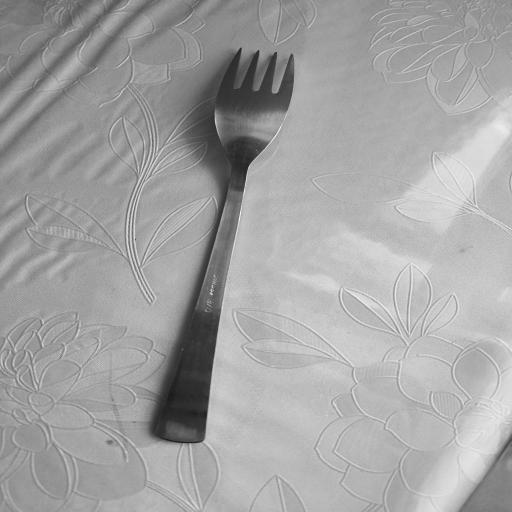fork: (149, 48, 296, 440)
